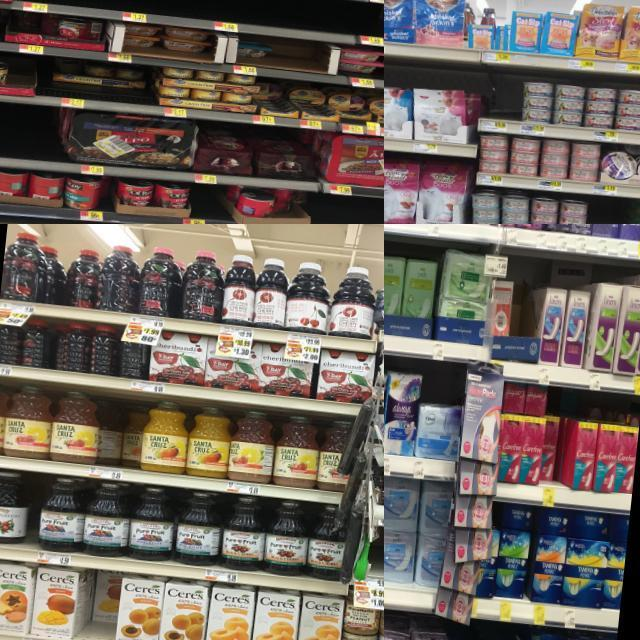Imprecise: (494, 384, 544, 488), (96, 392, 145, 470), (78, 566, 128, 640), (115, 22, 214, 59), (82, 60, 150, 105), (542, 412, 580, 490), (51, 16, 106, 48), (272, 190, 310, 226), (292, 84, 328, 120), (255, 82, 288, 115), (236, 46, 272, 66)
